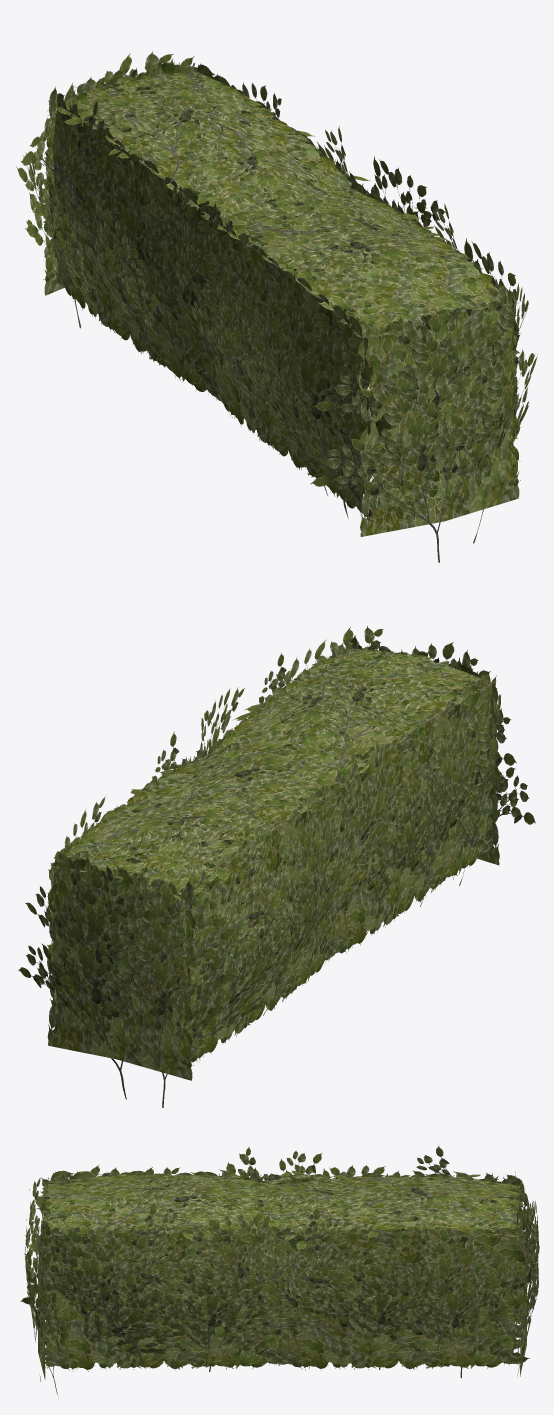
Rendered from MB_Boxwood_Shrubs_01.fbx.
The picture shows the model from 3 angles, top to bottom: view 1: azimuth 30°, elevation 25°; view 2: azimuth 150°, elevation 25°; view 3: azimuth 270°, elevation 25°; orthographic projection. The views are drawn at different scales.
Visible parts, largest first — view 1: MB_Boxwood_Shrubs_01_LOD0; view 2: MB_Boxwood_Shrubs_01_LOD0; view 3: MB_Boxwood_Shrubs_01_LOD0.
Boxes of the visible parts, x1,y1,x2,y2 form: MB_Boxwood_Shrubs_01_LOD0: [16, 51, 537, 562]; MB_Boxwood_Shrubs_01_LOD0: [18, 626, 535, 1107]; MB_Boxwood_Shrubs_01_LOD0: [20, 1146, 539, 1395].
Size of what is drawn, in the model's own units: 152 by 171 by 368.
